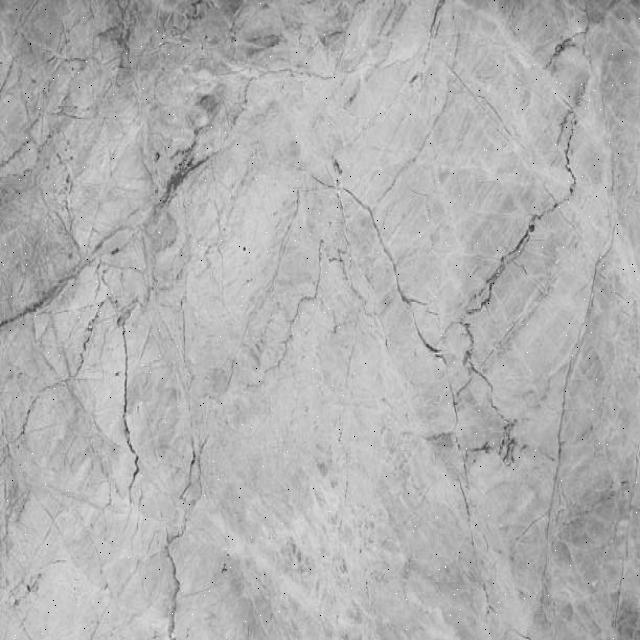Metamorphic: (3, 3, 636, 638)
